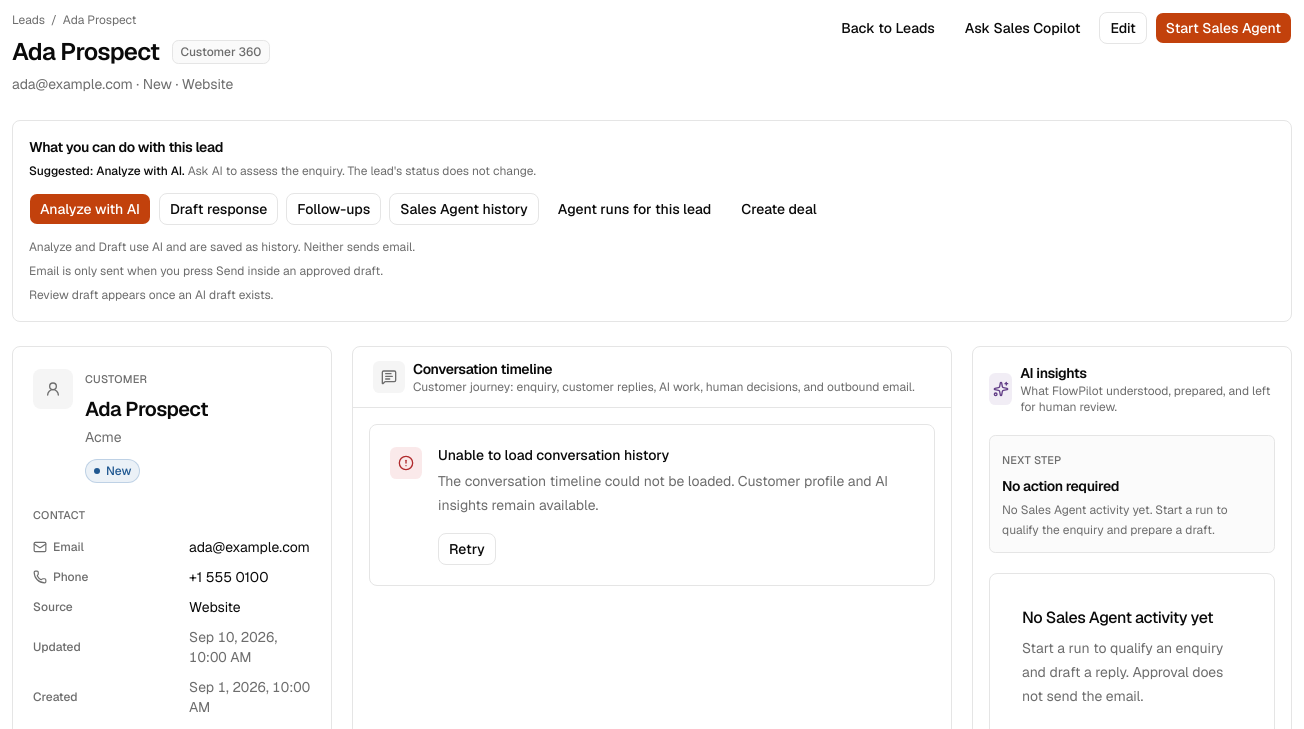
Lead workspace › retries conversation timeline failures independently
Expected: the heading "Unable to load conversation history" is shown, [438,446,669,464]
Expected: the heading "AI insights" is shown, [1020,364,1087,382]
Click the button "Retry" at {"x": 467, "y": 549}, box [438,533,496,565]
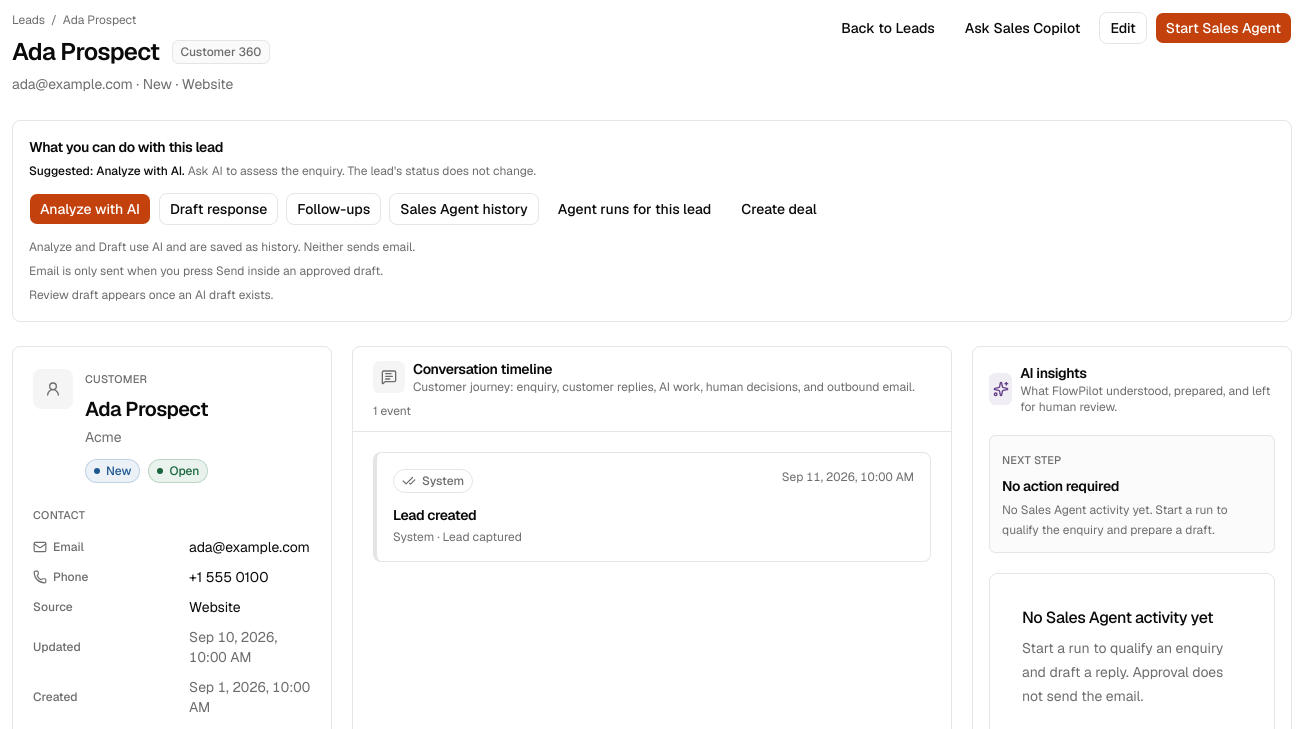
Expected: the heading "Lead created" is shown, [393,506,476,524]
Expected: the list named "Conversation timeline" is shown, [353,432,951,582]
